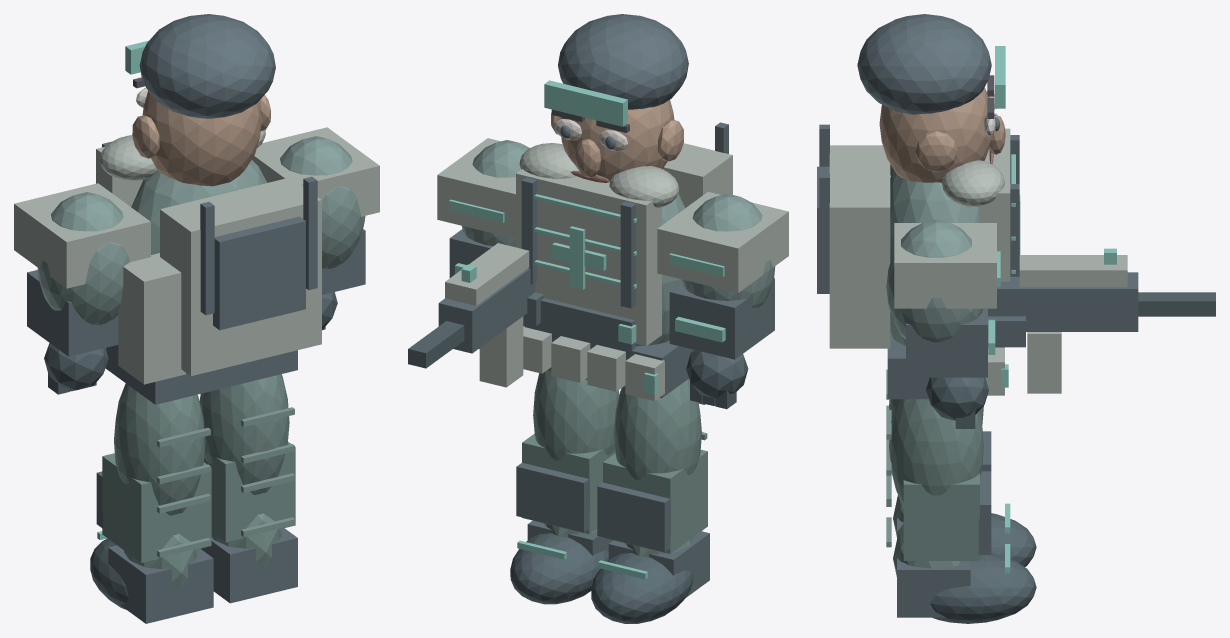
Rendered from aegis.glb.
3 renders of one model, left to right at view 1: azimuth 30°, elevation 25°; view 2: azimuth 150°, elevation 25°; view 3: azimuth 270°, elevation 25°, orthographic. The views are drawn at different scales.
Parts seen in each view (by area): view 1: RigRoot_Model, LeftLegPivot_Model, HeadPivot_Model, LeftArmPivot_Model, RightLegPivot_Model, RightArmPivot_Model; view 2: RigRoot_Model, LeftLegPivot_Model, LeftArmPivot_Model, HeadPivot_Model, RightLegPivot_Model, RightArmPivot_Model; view 3: RigRoot_Model, RightLegPivot_Model, HeadPivot_Model, RightArmPivot_Model, LeftLegPivot_Model.
Boxes of the visible parts, left/top/right/bottom form: RigRoot_Model: left=96, top=130, right=321, bottom=404; LeftLegPivot_Model: left=90, top=383, right=213, bottom=623; HeadPivot_Model: left=125, top=14, right=275, bottom=186; LeftArmPivot_Model: left=14, top=183, right=150, bottom=394; RightLegPivot_Model: left=199, top=374, right=297, bottom=603; RightArmPivot_Model: left=252, top=127, right=379, bottom=330; RigRoot_Model: left=408, top=122, right=732, bottom=400; LeftLegPivot_Model: left=591, top=378, right=709, bottom=623; LeftArmPivot_Model: left=657, top=192, right=788, bottom=409; HeadPivot_Model: left=544, top=14, right=688, bottom=182; RightLegPivot_Model: left=510, top=370, right=619, bottom=604; RightArmPivot_Model: left=437, top=138, right=529, bottom=348; RigRoot_Model: left=817, top=124, right=1215, bottom=399; RightLegPivot_Model: left=886, top=399, right=1036, bottom=623; HeadPivot_Model: left=857, top=14, right=1005, bottom=182; RightArmPivot_Model: left=886, top=219, right=1000, bottom=428; LeftLegPivot_Model: left=886, top=369, right=1036, bottom=566.
Bounding box in the file's own units: 1.35 × 2.41 × 1.51.
